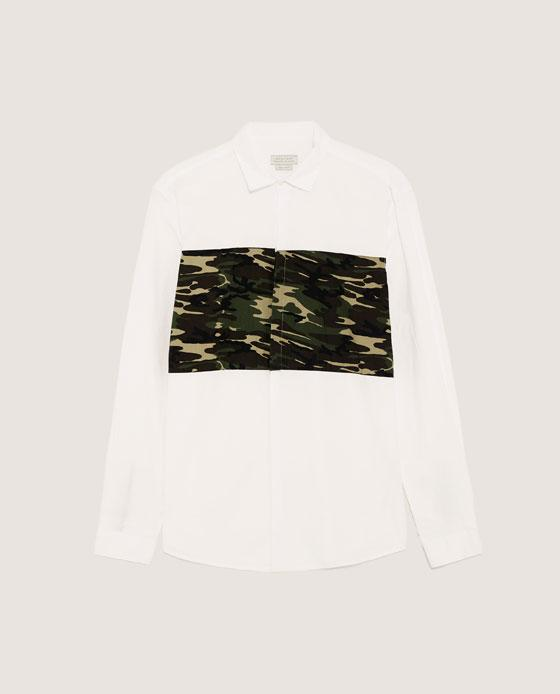teeshirt: (100, 120, 489, 604)
